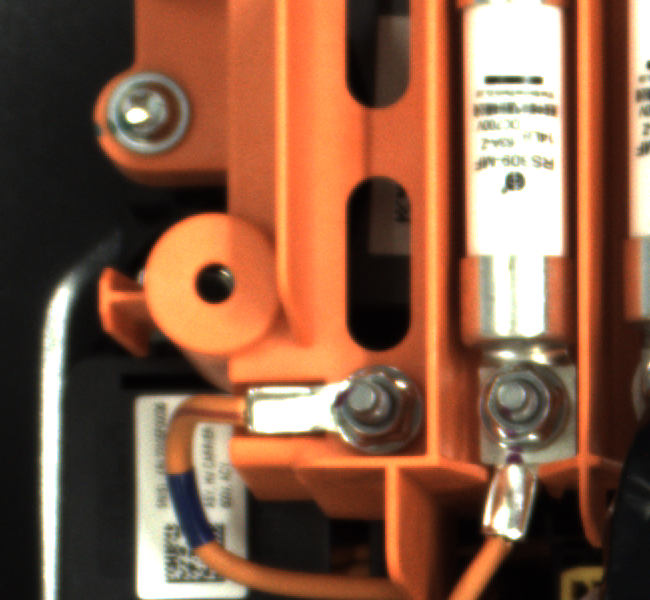screw_m: (98, 66, 201, 169)
screw_s: (477, 351, 574, 458), (328, 359, 434, 453)
